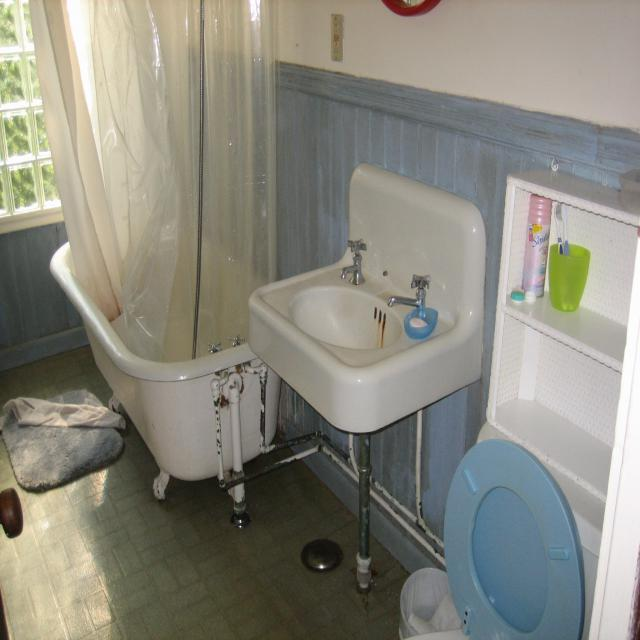power outlet: (331, 13, 344, 63)
sink basin: (249, 164, 487, 432), (249, 162, 481, 379)
